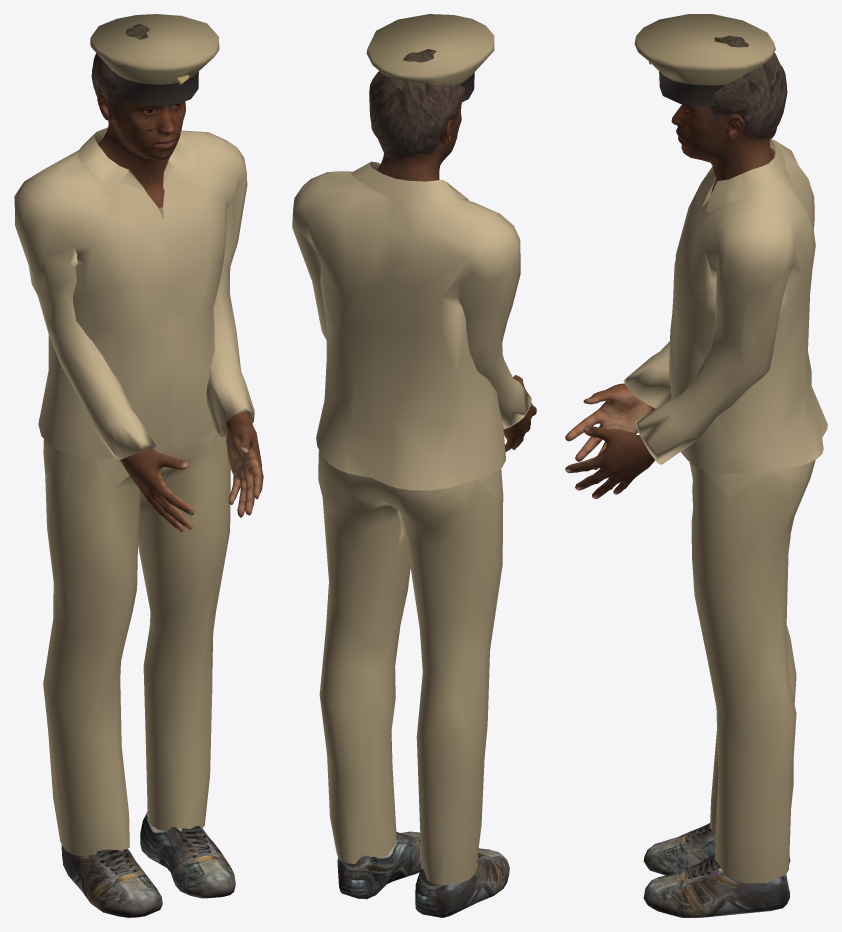
The model's file is street_police_stand.glb.
The picture shows the model from 3 angles, left to right: view 1: azimuth 30°, elevation 25°; view 2: azimuth 150°, elevation 25°; view 3: azimuth 270°, elevation 25°; orthographic projection.
Parts seen in each view (by area): view 1: police_stand; view 2: police_stand; view 3: police_stand.
Part boxes in pixels (x1=…): police_stand: x1=14, y1=14, x2=263, y2=917; police_stand: x1=292, y1=14, x2=536, y2=917; police_stand: x1=565, y1=14, x2=827, y2=917.
Bounding box in the file's own units: 0.4902 × 1.81 × 0.5073.
13 materials, 7 textured.
